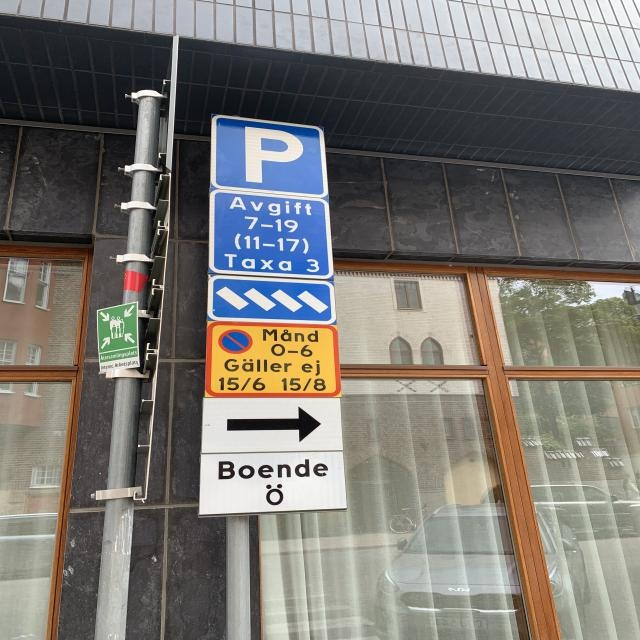P-skylt: (206, 110, 335, 202)
